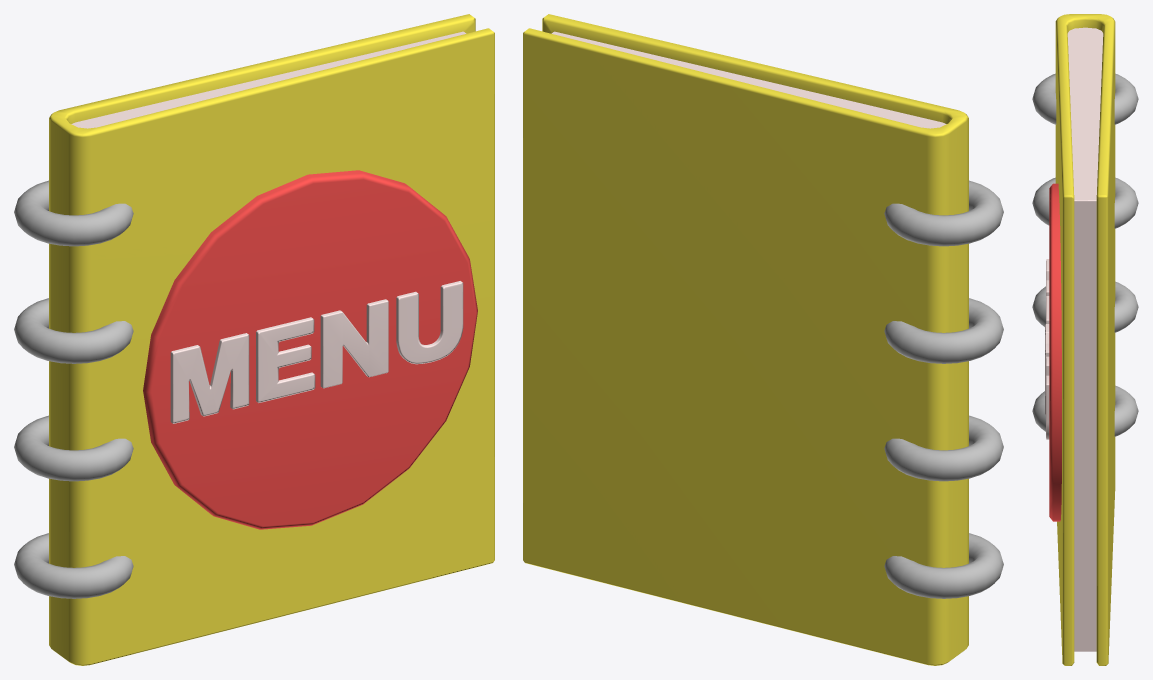
Rendered from Store_20_Menu_1.glb.
The picture shows the model from 3 angles, left to right: view 1: azimuth 30°, elevation 25°; view 2: azimuth 150°, elevation 25°; view 3: azimuth 270°, elevation 25°; orthographic projection. The views are drawn at different scales.
Visible parts, largest first — view 1: Store_20_Menu_1; view 2: Store_20_Menu_1; view 3: Store_20_Menu_1.
Part boxes in pixels (x1,y1,x2,y2): Store_20_Menu_1: (14, 14, 494, 665); Store_20_Menu_1: (523, 14, 1003, 665); Store_20_Menu_1: (1032, 14, 1138, 665).
Size of the model in its own units: 0.2821 by 0.3111 by 0.0636.
1 material, 1 textured.
